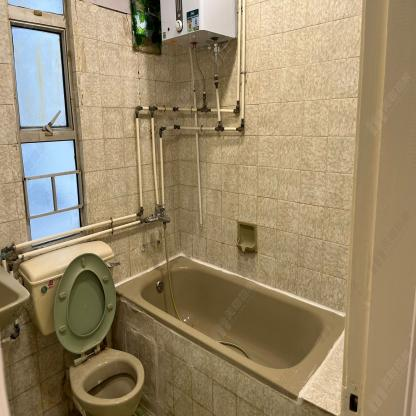Bathtub: (115, 252, 345, 400)
Toilet: (18, 239, 146, 414)
Water Heater: (159, 0, 238, 51)
